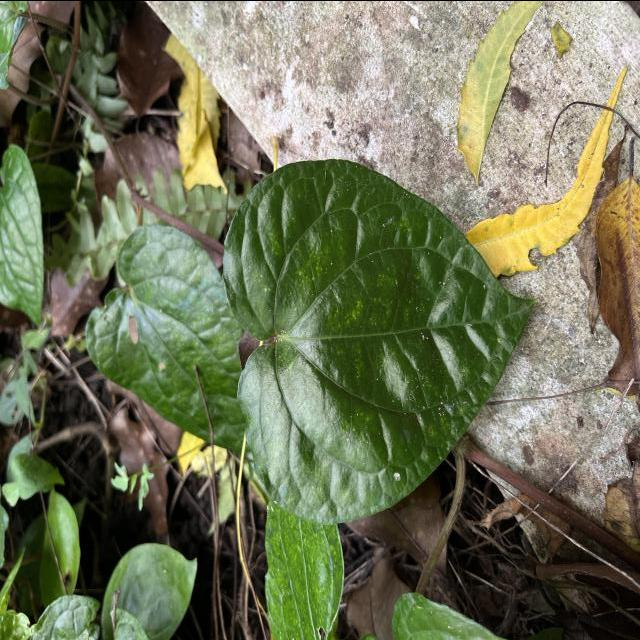Piper betle: (220, 154, 543, 526)
